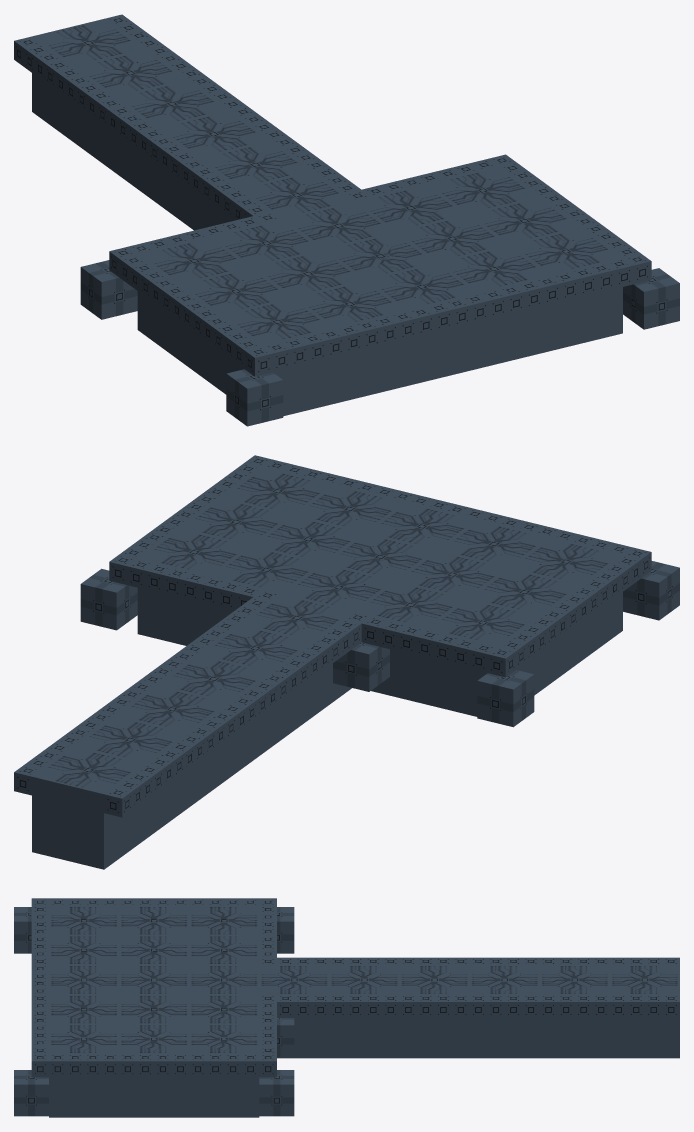
File: ActionMap.fbx
The picture shows the model from 3 angles, top to bottom: view 1: azimuth 30°, elevation 25°; view 2: azimuth 150°, elevation 25°; view 3: azimuth 270°, elevation 25°; orthographic projection. The views are drawn at different scales.
Visible parts, largest first — view 1: MapTile_A.016, MapTile_C.003, MapTile_C.006, MapTile_A.008, MapTile_A.006, MapTile_A.009, MapTile_A.007, MapTile_A.010, MapTile_A.015, MapTile_A.005, MapTile_C.002, MapTile_C.007 (+14 smaller); view 2: MapTile_A.016, MapTile_C.006, MapTile_A.014, MapTile_A.015, MapTile_A.013, MapTile_C.007, MapTile_C.004, MapTile_A.005, MapTile_A.010, MapTile_C.002, MapTile_C.003, MapTile_C.005 (+15 smaller); view 3: MapTile_A.016, MapTile_C.007, MapTile_C.001, MapTile_A.004, MapTile_A.014, MapTile_A.009, MapTile_C.003, MapTile_C.006, MapTile_A.002, MapTile_A.012, MapTile_A.007, MapTile_A (+16 smaller).
Part boxes in pixels (x1=…): MapTile_A.016: x1=32, y1=19, x2=353, y2=230; MapTile_C.003: x1=244, y1=253, x2=651, y2=376; MapTile_C.006: x1=14, y1=36, x2=270, y2=220; MapTile_A.008: x1=293, y1=280, x2=406, y2=403; MapTile_A.006: x1=365, y1=263, x2=478, y2=385; MapTile_A.009: x1=510, y1=227, x2=622, y2=350; MapTile_A.007: x1=437, y1=245, x2=550, y2=368; MapTile_A.010: x1=221, y1=298, x2=334, y2=416; MapTile_A.015: x1=137, y1=237, x2=250, y2=359; MapTile_A.005: x1=179, y1=267, x2=292, y2=390; MapTile_C.002: x1=119, y1=254, x2=261, y2=368; MapTile_C.007: x1=104, y1=14, x2=360, y2=193; MapTile_A.016: x1=32, y1=594, x2=353, y2=869; MapTile_C.006: x1=104, y1=619, x2=361, y2=817; MapTile_A.014: x1=137, y1=528, x2=250, y2=645; MapTile_A.015: x1=426, y1=598, x2=539, y2=716; MapTile_A.013: x1=354, y1=581, x2=467, y2=704; MapTile_C.007: x1=14, y1=597, x2=270, y2=795; MapTile_C.004: x1=344, y1=611, x2=516, y2=677; MapTile_A.005: x1=468, y1=568, x2=581, y2=690; MapTile_A.010: x1=510, y1=537, x2=622, y2=660; MapTile_C.002: x1=498, y1=555, x2=640, y2=669; MapTile_C.003: x1=245, y1=455, x2=651, y2=578; MapTile_C.005: x1=109, y1=554, x2=281, y2=610; MapTile_A.016: x1=259, y1=965, x2=679, y2=1058; MapTile_C.007: x1=277, y1=994, x2=679, y2=1017; MapTile_C.001: x1=49, y1=1054, x2=259, y2=1077; MapTile_A.004: x1=119, y1=1024, x2=189, y2=1117; MapTile_A.014: x1=189, y1=1024, x2=259, y2=1117; MapTile_A.009: x1=49, y1=1024, x2=118, y2=1117; MapTile_C.003: x1=31, y1=898, x2=48, y2=1077; MapTile_C.006: x1=277, y1=957, x2=679, y2=964; MapTile_A.002: x1=119, y1=994, x2=189, y2=1024; MapTile_A.012: x1=189, y1=994, x2=259, y2=1024; MapTile_A.007: x1=49, y1=994, x2=118, y2=1024; MapTile_A: x1=119, y1=965, x2=189, y2=994.
Size of what is drawn, in the model's own units: 4800 by 800 by 7600.
Materials: 3 (3 with a texture image).
